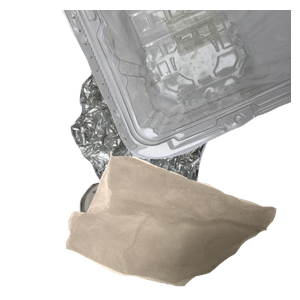glass: (77, 178, 205, 300)
metal: (68, 34, 300, 214)
plastic: (60, 10, 300, 162)
trash: (63, 149, 300, 300)
